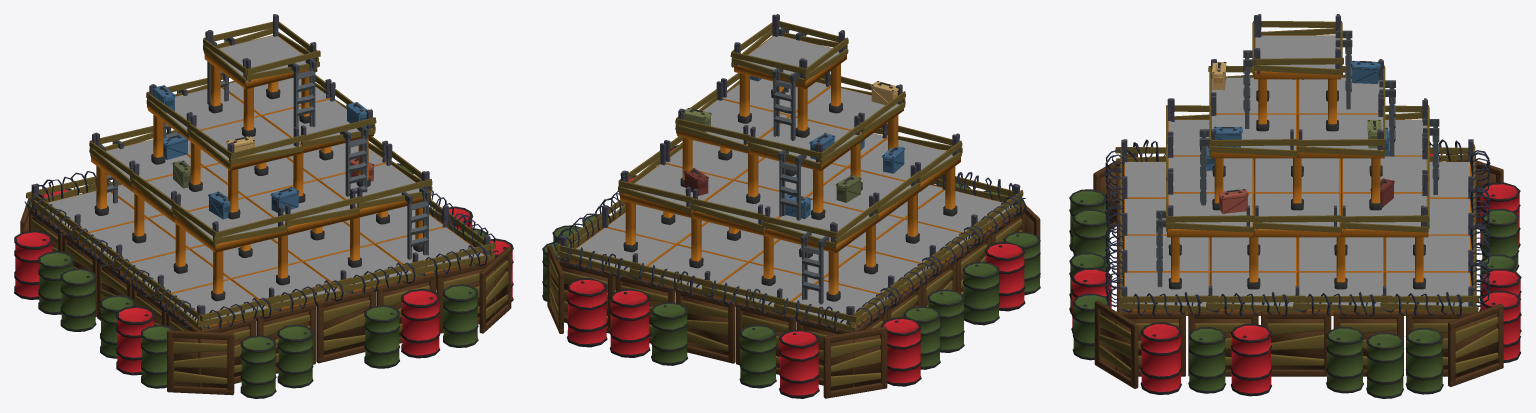
Rendered from NewBigBunker.fbx.
3 renders of one model, left to right at view 1: azimuth 30°, elevation 25°; view 2: azimuth 150°, elevation 25°; view 3: azimuth 270°, elevation 25°, orthographic. The views are drawn at different scales.
Visible parts, largest first — view 1: SmallBunker.124; view 2: SmallBunker.124; view 3: SmallBunker.124.
Boxes of the visible parts, bbox=[...] form: SmallBunker.124: bbox=[14, 14, 513, 398]; SmallBunker.124: bbox=[542, 14, 1040, 398]; SmallBunker.124: bbox=[1069, 14, 1521, 398].
Bounding box in the file's own units: 15.83 × 10.21 × 15.58.
12 materials, 1 textured.
